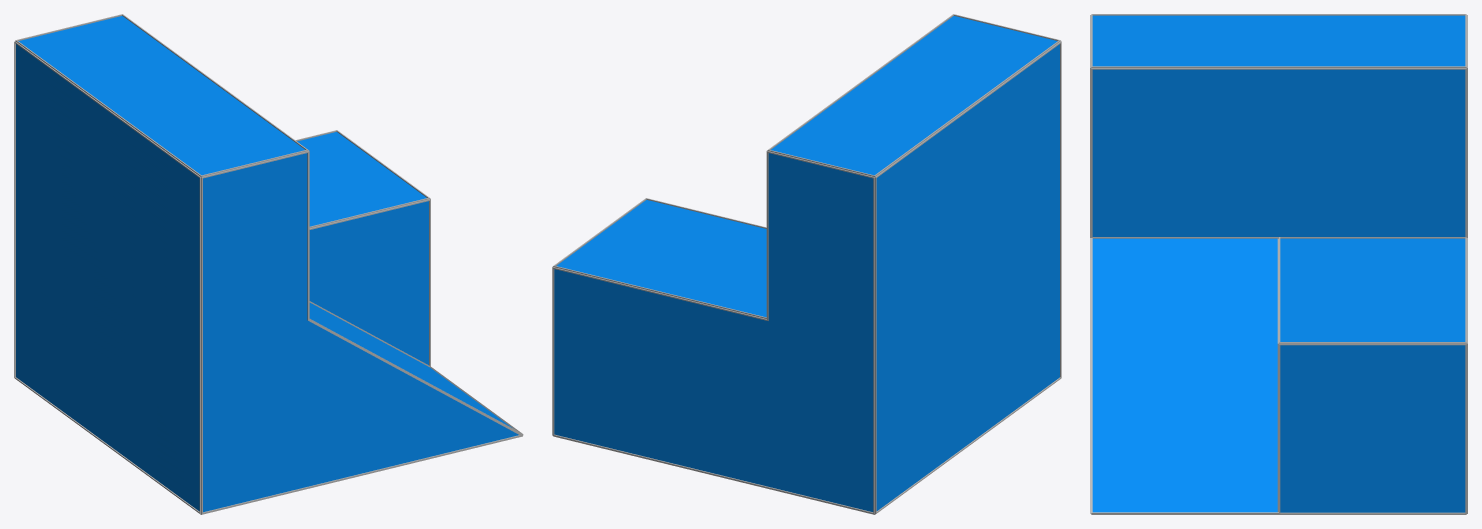
File: PecaB.glb
3 renders of one model, left to right at view 1: azimuth 30°, elevation 25°; view 2: azimuth 150°, elevation 25°; view 3: azimuth 270°, elevation 25°, orthographic.
Visible parts, largest first — view 1: Sólido1; view 2: Sólido1; view 3: Sólido1.
Part boxes in pixels (box(x1,y1,x2,y2)): Sólido1: box(14, 14, 523, 514); Sólido1: box(552, 14, 1061, 514); Sólido1: box(1090, 14, 1467, 514).
Bounding box in the file's own units: 0.0302 × 0.0302 × 0.0302.
